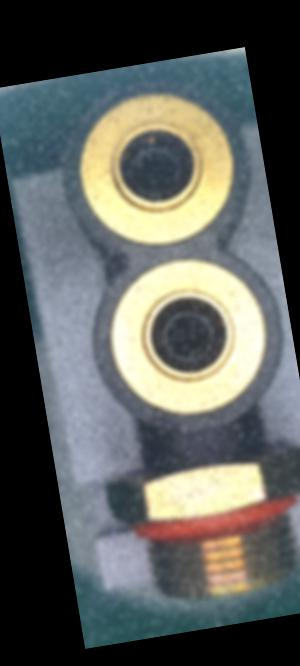bump: (145, 409, 184, 434)
white mark: (205, 454, 219, 468)
